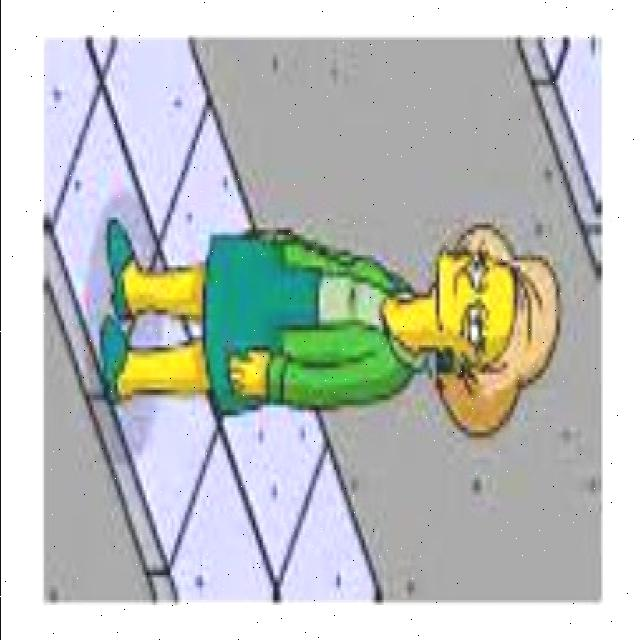Edna Krappel: (378, 221, 560, 444)
